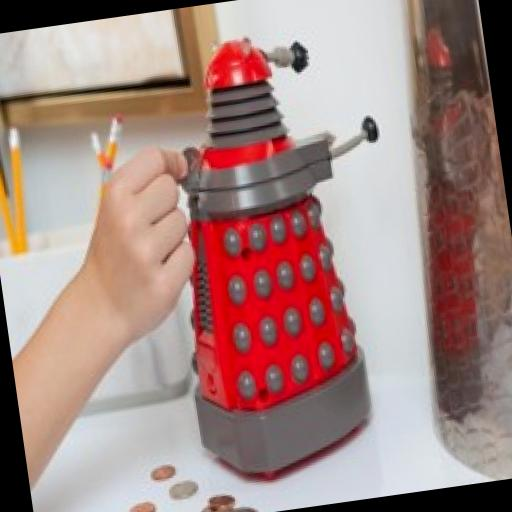dalek: (122, 12, 423, 490)
